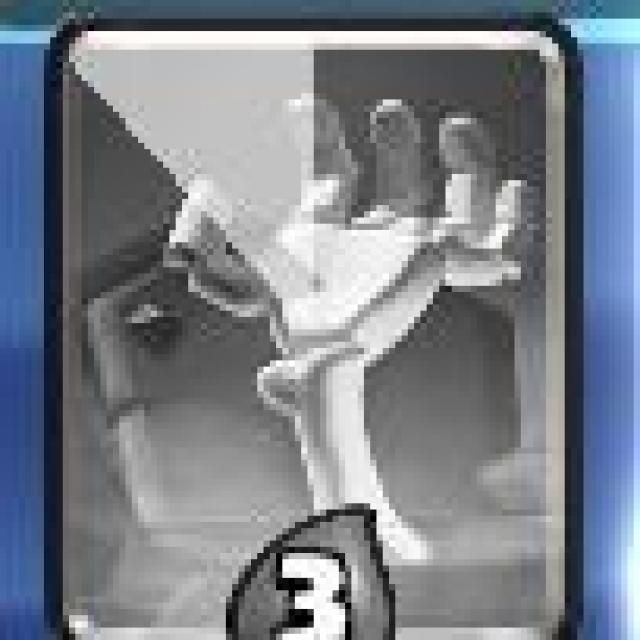Tombstone: (49, 11, 573, 640)
